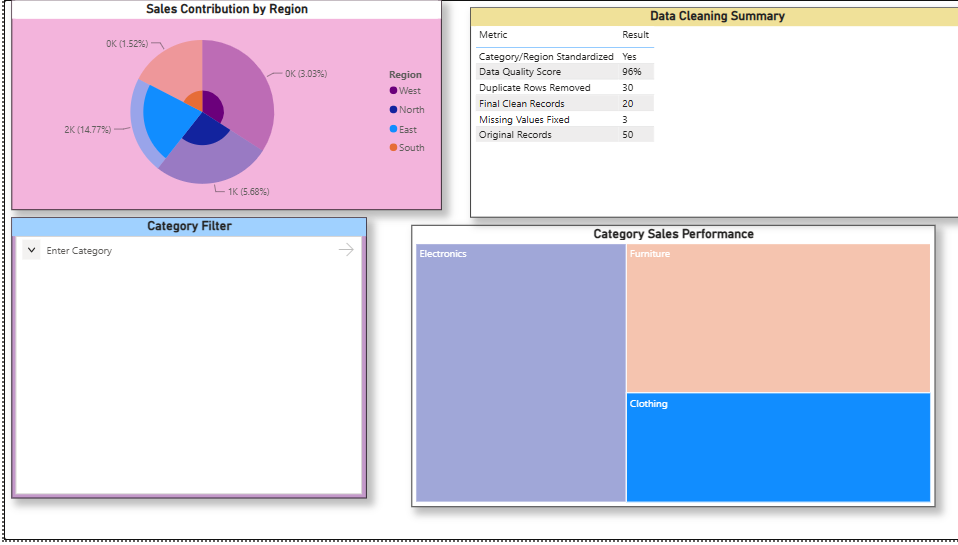

The dashboard page shown, as its layout file describes it:
{"tool":"powerbi","page":{"name":"Page 2","canvas":[1280,720],"ordinal":1},"visuals":[{"type":"pieChart","title":"Sales Contribution by Region","fields":{"Category":["Cleaned_Data.Region"],"Y":["Sum(Cleaned_Data.Sales)"]},"box":[9.6,0,573.6,279.9],"z":0},{"type":"textSlicer","title":"Category Filter","fields":{"Values":["Cleaned_Data.Category"]},"box":[9.6,289.5,473.4,374.6],"z":1},{"type":"treemap","title":"Category Sales Performance","fields":{"Group":["Cleaned_Data.Category"],"Values":["Sum(Cleaned_Data.Sales)"]},"box":[543.4,300.5,698.5,376],"z":2},{"type":"tableEx","title":"Data Cleaning Summary","fields":{"Values":["Data_Quality_Report.Metric","Data_Quality_Report.Result"]},"box":[621.7,10,658.3,280],"z":3}]}

Visuals, with their boxes in screenshot pixels (x1, y1, x2, y2), scaled from the page's 1280x720 canvas onto the 958x545 screenshot:
"Sales Contribution by Region" pieChart: crop(7, 0, 436, 212)
"Category Filter" textSlicer: crop(7, 219, 361, 503)
"Category Sales Performance" treemap: crop(407, 227, 929, 512)
"Data Cleaning Summary" tableEx: crop(465, 8, 957, 220)
